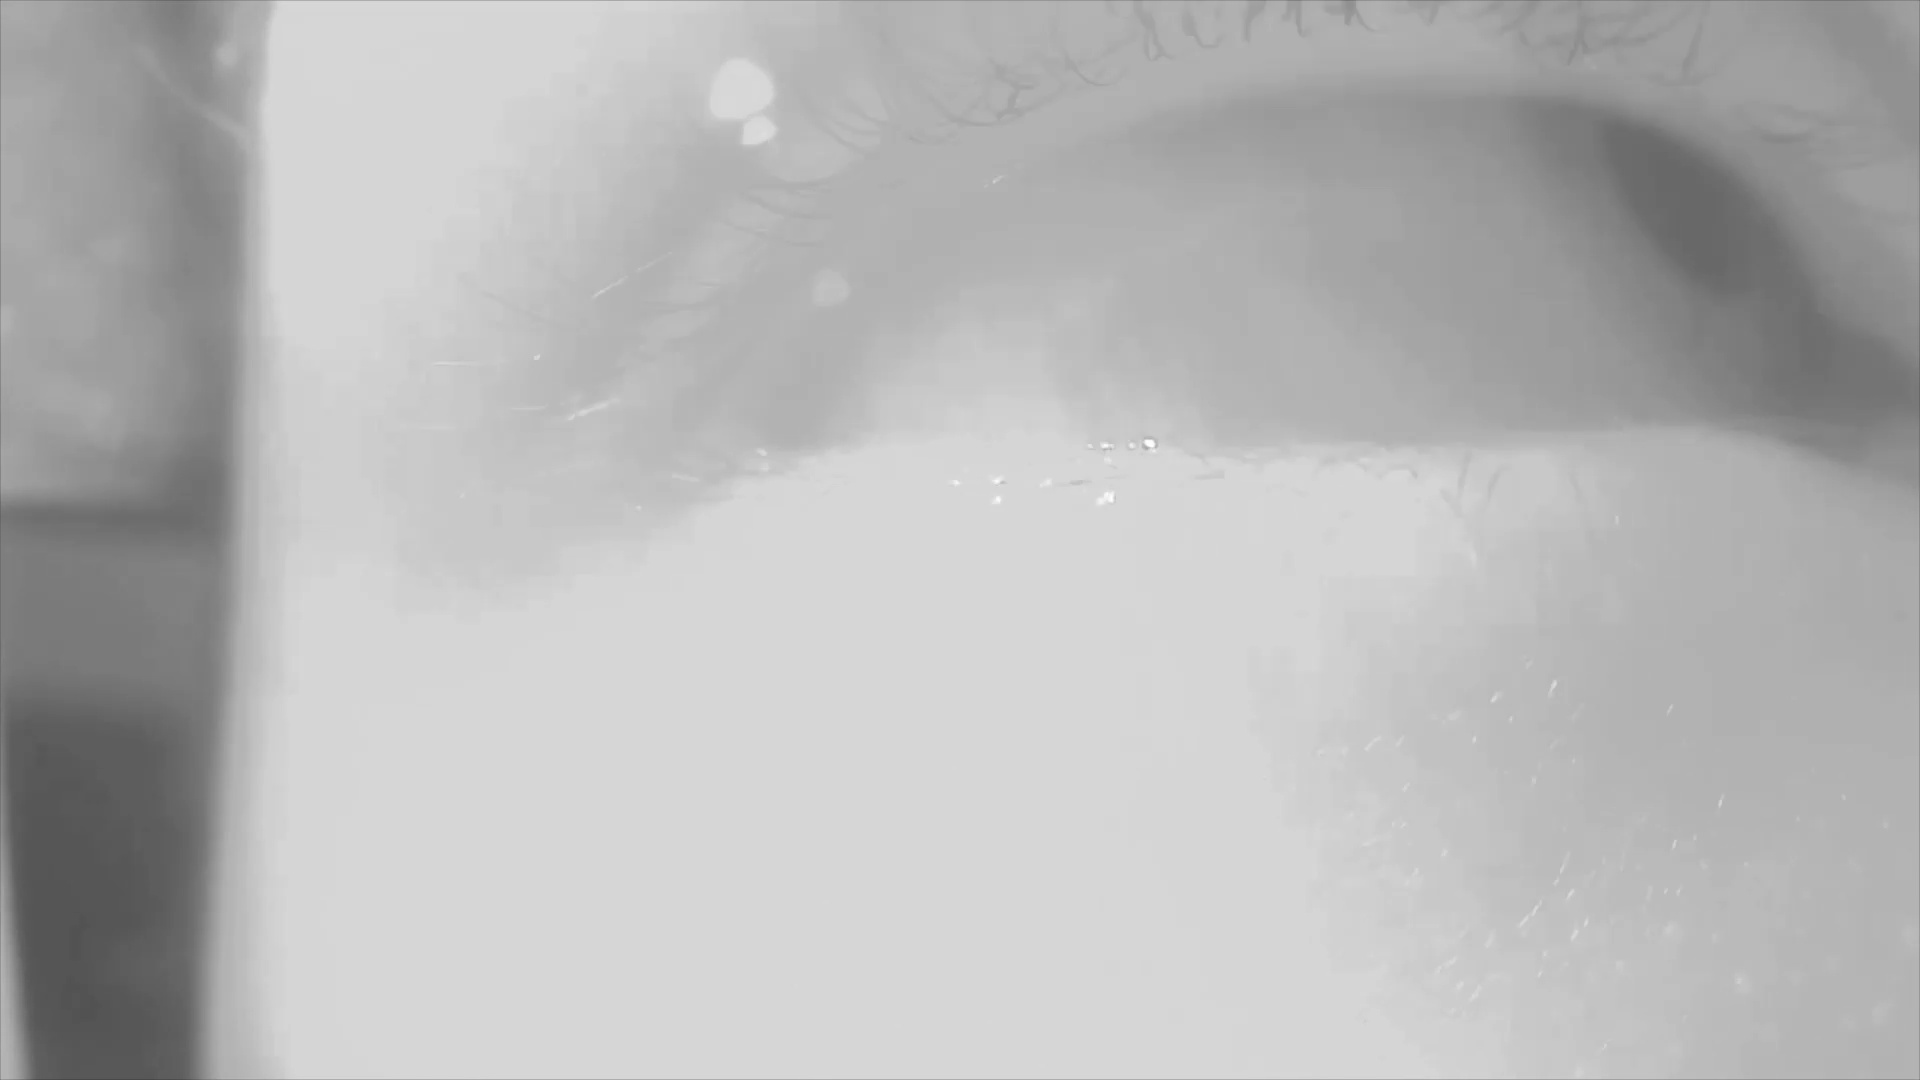pupil: (1611, 123, 1753, 291)
